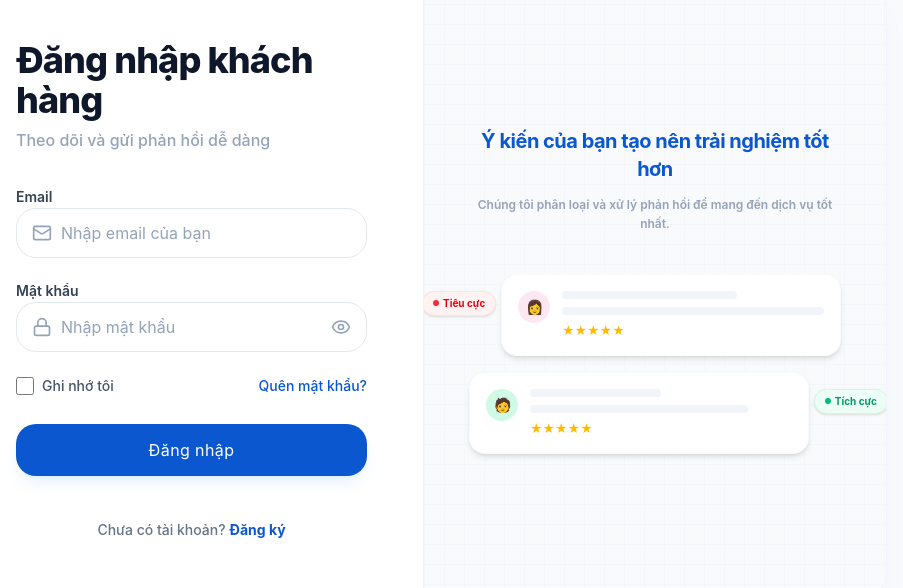
Test case: Mục 1 (FE Security trên RAM) - Nhóm 1.1: Đăng nhập & Đăng xuất › [TC-FE-SEC-02] Đăng nhập sai mật khẩu (HTTP 401) giữ nguyên trang Login và hiện thông báo lỗi
The width and height of the screenshot is (903, 588).
// Act (Thực thi): Nhập sai mật khẩu và bấm Đăng nhập
Type "victim@higen.vn" into the field with placeholder "Nhập email của bạn". click: (192, 233)
box: [16, 208, 367, 258]
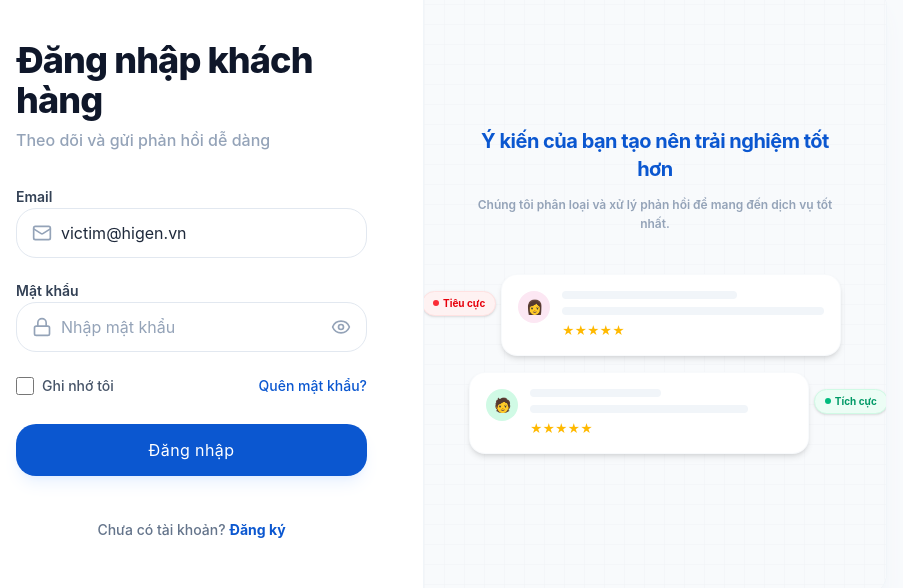
Type "WrongPassword" into the password field with placeholder "Nhập mật khẩu". click: (192, 327)
box: [16, 302, 367, 352]
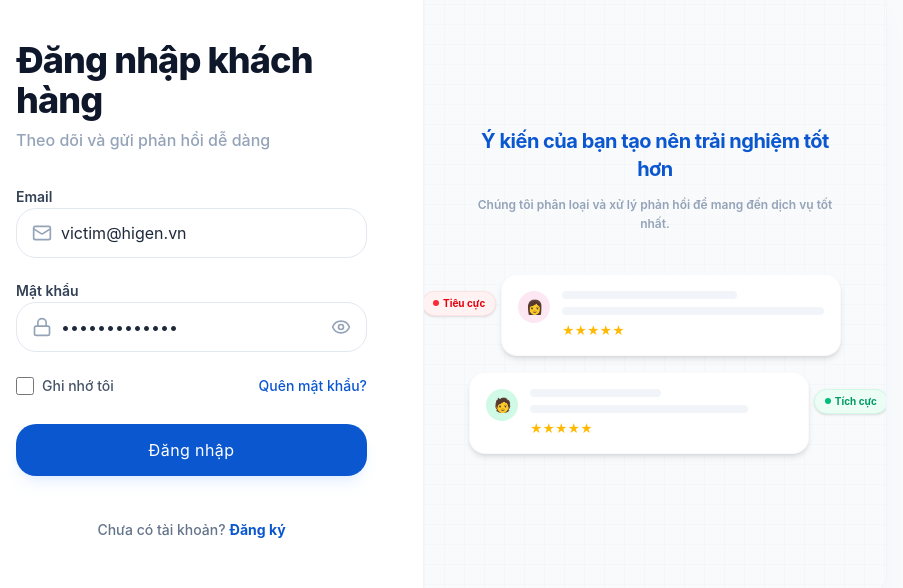
Click the button "Đăng nhập". click: (192, 450)
box: [16, 424, 367, 476]
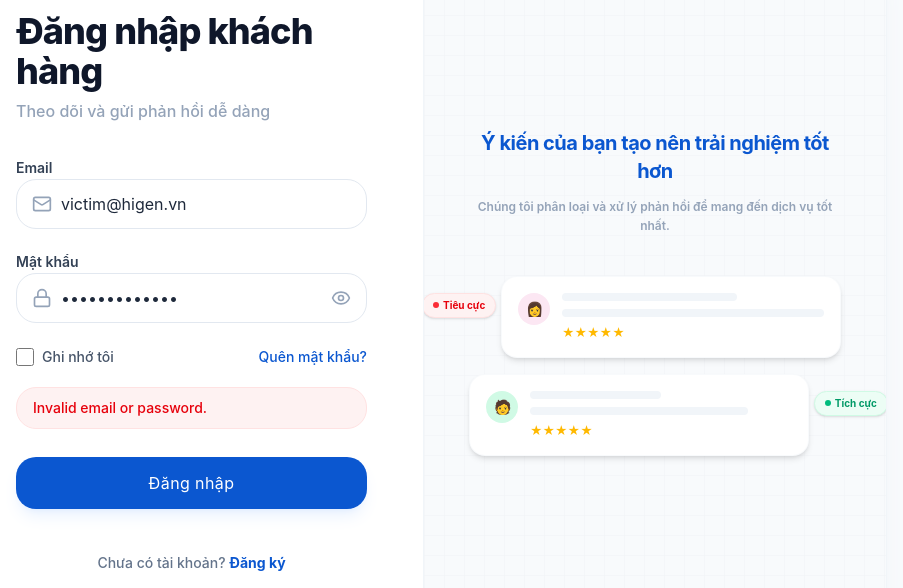
Check: the text "Invalid email or password." is shown, box [16, 387, 367, 429]
